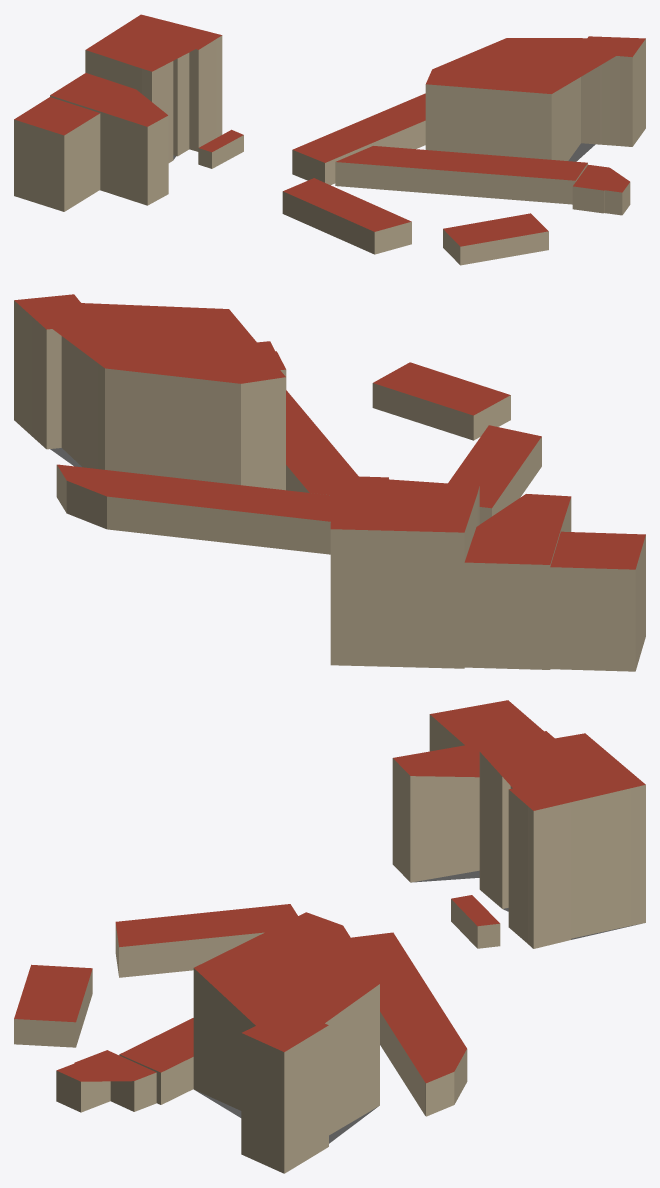
File: ingolstadt_10_lod1_buildings.obj
3 renders of one model, top to bottom at view 1: azimuth 30°, elevation 25°; view 2: azimuth 150°, elevation 25°; view 3: azimuth 270°, elevation 25°, orthographic. The views are drawn at different scales.
Visible parts, largest first — view 1: bldg_DEBY_L2_107777145, bldg_DEBY_L2_4392510, bldg_DEBY_L2_4392842, bldg_DEBY_L2_4392436, bldg_DEBY_L2_4392435, bldg_DEBY_L2_4392840, bldg_DEBY_L2_104848284, bldg_DEBY_L2_4392841, bldg_DEBY_L2_4392882, bldg_DEBY_L2_4392883; view 2: bldg_DEBY_L2_107777145, bldg_DEBY_L2_4392510, bldg_DEBY_L2_104848284, bldg_DEBY_L2_4392436, bldg_DEBY_L2_4392435, bldg_DEBY_L2_4392841, bldg_DEBY_L2_4392840, bldg_DEBY_L2_4392842; view 3: bldg_DEBY_L2_107777145, bldg_DEBY_L2_4392510, bldg_DEBY_L2_4392436, bldg_DEBY_L2_104848284, bldg_DEBY_L2_4392840, bldg_DEBY_L2_4392841, bldg_DEBY_L2_4392882, bldg_DEBY_L2_4392435, bldg_DEBY_L2_4392842, bldg_DEBY_L2_4392883.
Part boxes in pixels (<box>): bldg_DEBY_L2_107777145: <box>425,36,645,161</box>; bldg_DEBY_L2_4392510: <box>85,14,222,162</box>; bldg_DEBY_L2_4392842: <box>335,146,587,204</box>; bldg_DEBY_L2_4392436: <box>50,73,168,205</box>; bldg_DEBY_L2_4392435: <box>14,97,100,211</box>; bldg_DEBY_L2_4392840: <box>282,178,411,254</box>; bldg_DEBY_L2_104848284: <box>292,93,425,185</box>; bldg_DEBY_L2_4392841: <box>443,213,548,265</box>; bldg_DEBY_L2_4392882: <box>572,164,630,215</box>; bldg_DEBY_L2_4392883: <box>198,129,243,168</box>; bldg_DEBY_L2_107777145: <box>14,294,285,490</box>; bldg_DEBY_L2_4392510: <box>330,475,479,668</box>; bldg_DEBY_L2_104848284: <box>56,464,331,554</box>; bldg_DEBY_L2_4392436: <box>464,494,571,669</box>; bldg_DEBY_L2_4392435: <box>550,531,645,671</box>; bldg_DEBY_L2_4392841: <box>372,362,510,440</box>; bldg_DEBY_L2_4392840: <box>448,425,541,524</box>; bldg_DEBY_L2_4392842: <box>286,390,358,495</box>; bldg_DEBY_L2_107777145: <box>193,912,379,1173</box>; bldg_DEBY_L2_4392510: <box>479,733,645,948</box>; bldg_DEBY_L2_4392436: <box>392,731,554,882</box>; bldg_DEBY_L2_104848284: <box>351,932,467,1116</box>; bldg_DEBY_L2_4392840: <box>115,904,297,977</box>; bldg_DEBY_L2_4392841: <box>14,964,92,1047</box>; bldg_DEBY_L2_4392882: <box>56,1050,156,1112</box>; bldg_DEBY_L2_4392435: <box>429,700,543,751</box>; bldg_DEBY_L2_4392842: <box>119,1018,193,1104</box>; bldg_DEBY_L2_4392883: <box>451,895,500,948</box>.
Size of the model in its own units: 79.47 by 14.8 by 58.57.
